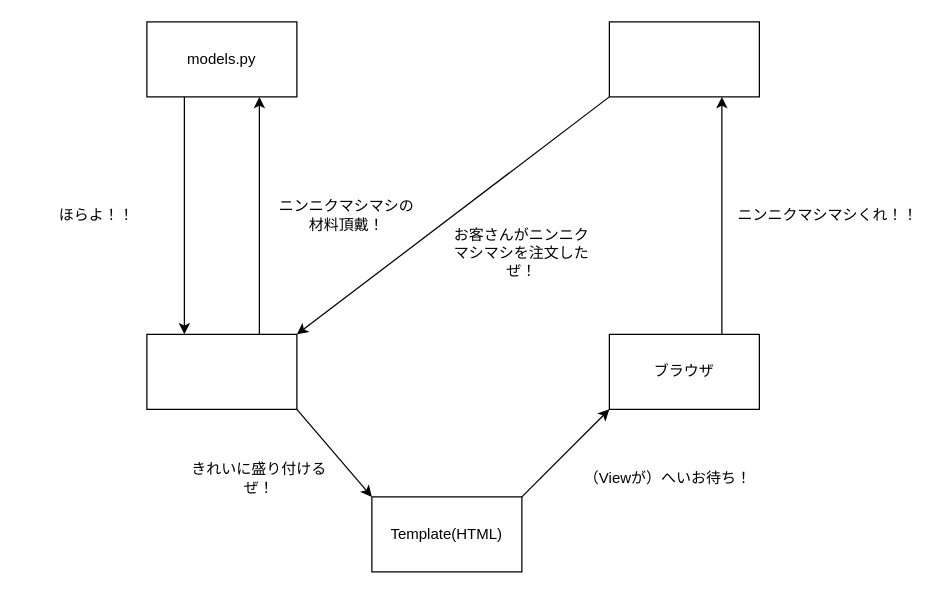
Some shapes in this 943 by 594 pixel diagram are drawn without their labels. Here are the shapes that lost their labels. From the top down, the centre of each, then its label:
point 683,59: urls.py
point 221,371: views.py
